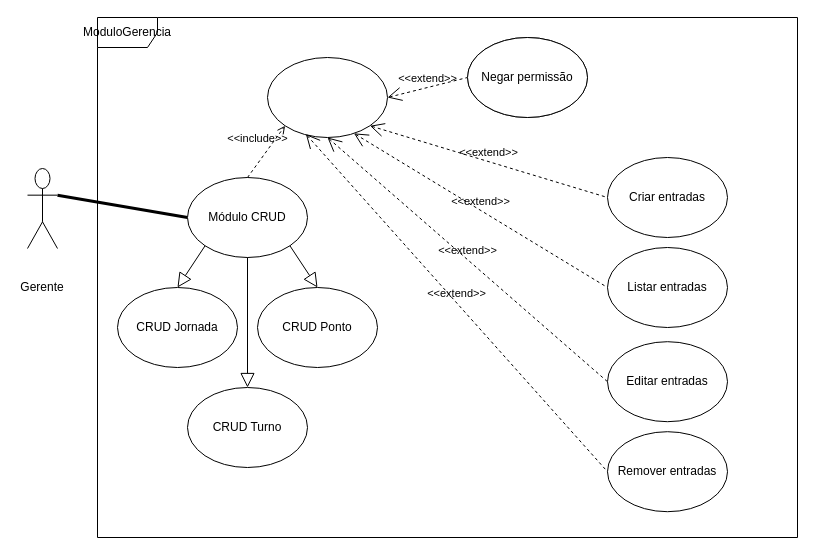
This 815x555 diagram has some shape labels left out. The box of each missing label's shape, as (x1, y1, x2, y2) in pixels:
Actor: (26, 168, 58, 248)
Checagem de identificação e acesso: (266, 56, 388, 138)
